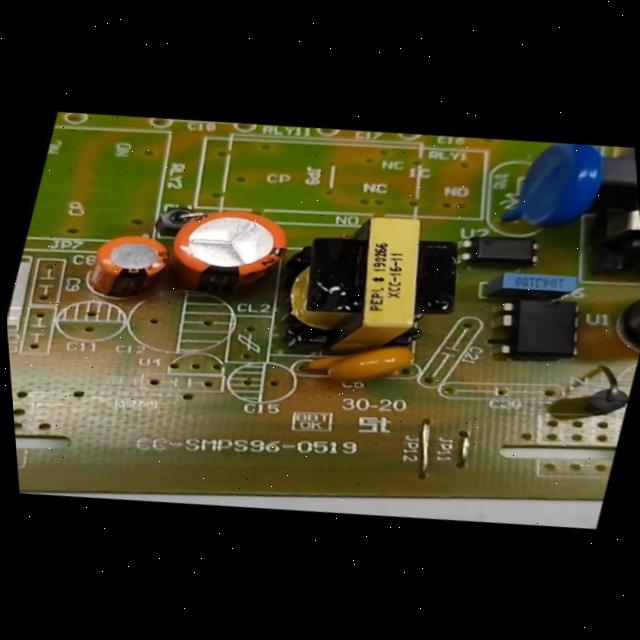Cap1: (162, 202, 299, 294)
Cap2: (81, 229, 177, 299)
MOSFET: (488, 294, 591, 364)
Mov: (506, 137, 614, 230)
Resistor: (617, 146, 636, 161)
Transformer: (268, 203, 476, 354), (605, 193, 640, 260)
